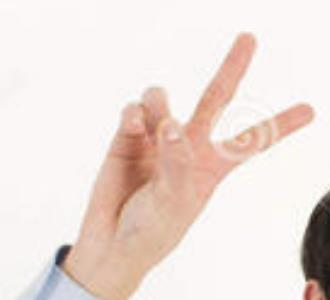front: (86, 26, 320, 272)
